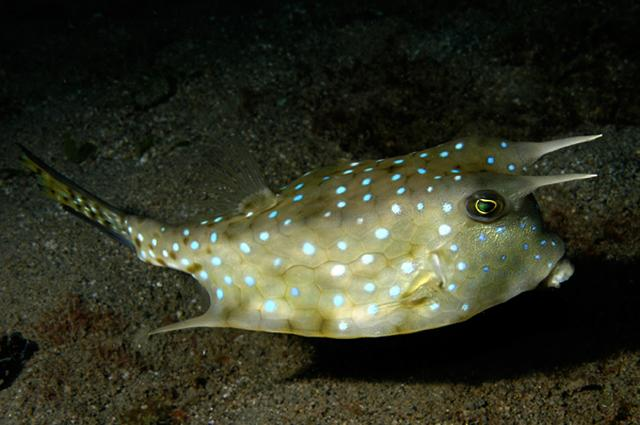Mulut: (526, 229, 586, 307)
Sirip Dada: (341, 258, 477, 332)
Sirip Ekor: (7, 130, 179, 298)
